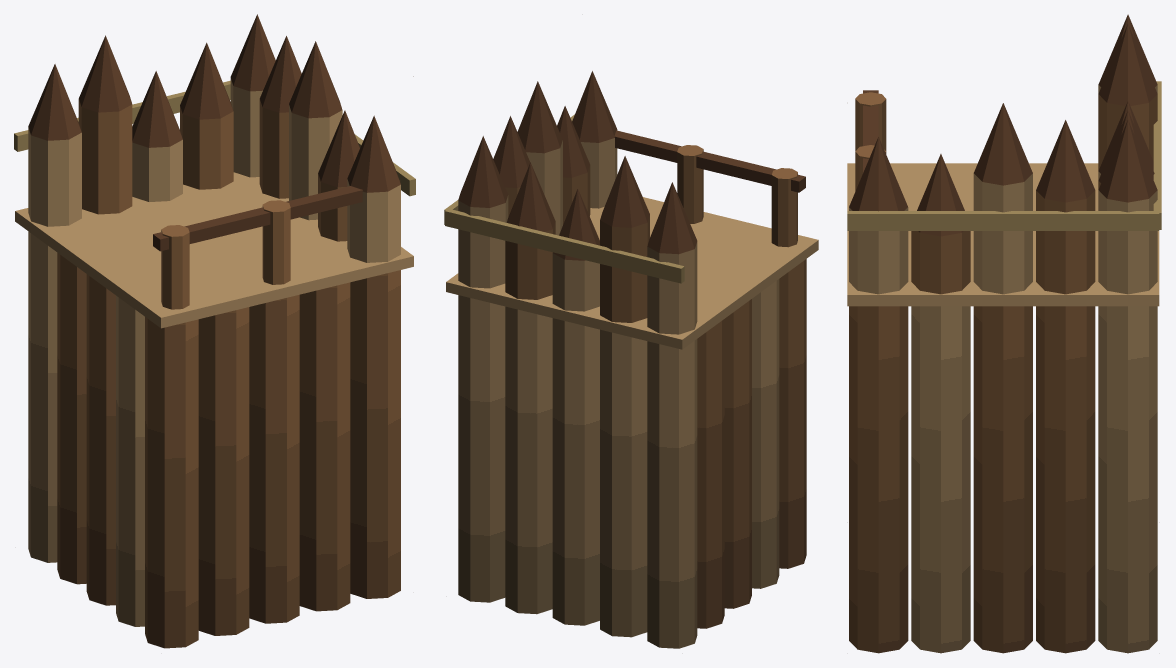
The model's file is perimeter_wall_wood_f8.glb.
3 renders of one model, left to right at view 1: azimuth 30°, elevation 25°; view 2: azimuth 150°, elevation 25°; view 3: azimuth 270°, elevation 25°, orthographic. The views are drawn at different scales.
Size of the model in its own units: 2.01 by 3.9 by 2.01.
Materials: 1 (1 with a texture image).
